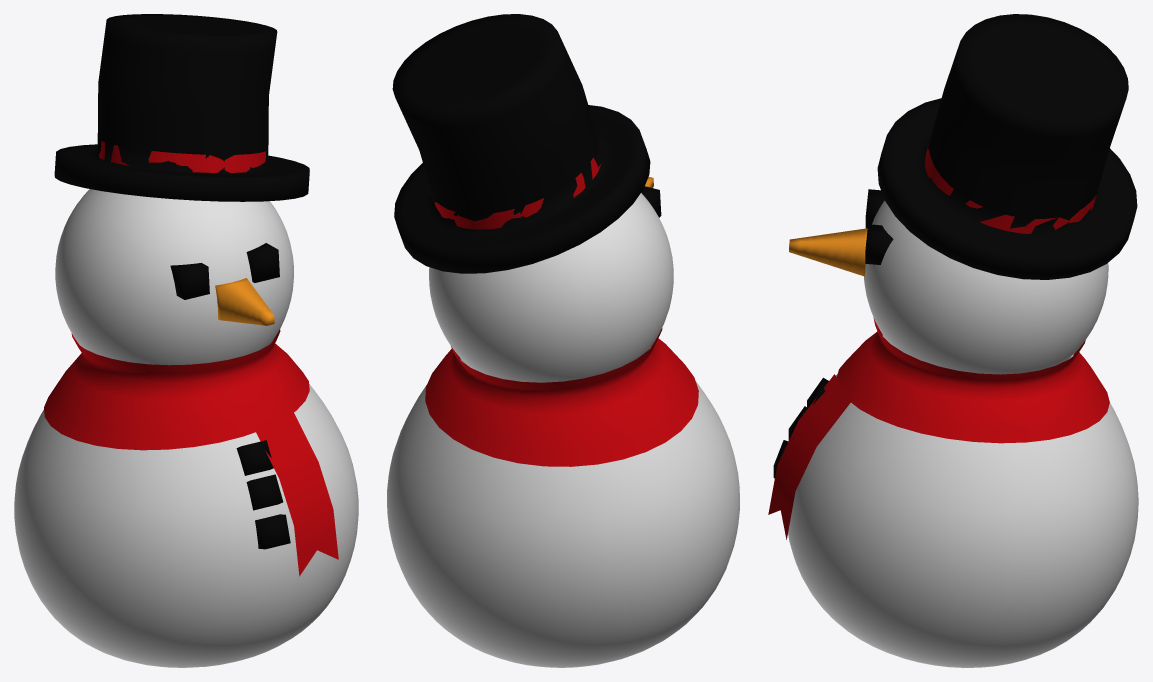
File: avatar.glb
3 renders of one model, left to right at view 1: azimuth 30°, elevation 25°; view 2: azimuth 150°, elevation 25°; view 3: azimuth 270°, elevation 25°, orthographic. The views are drawn at different scales.
Visible parts, largest first — view 1: Snowman 3d illustration, Circle.001, Cube.001, Circle, Plane, Cube.004, Cube.006, Circle.001_Piece, Cube.005, Cube.002; view 2: Snowman 3d illustration, Circle.001, Cube.001, Circle, Circle.001_Piece; view 3: Snowman 3d illustration, Circle.001, Cube.001, Circle, Plane, Cube.006, Circle.001_Piece, Cube.002, Cube.004.
Boxes of the visible parts, <box> form: Snowman 3d illustration: <box>14,384,358,667</box>; Circle.001: <box>54,14,309,201</box>; Cube.001: <box>55,189,293,365</box>; Circle: <box>44,329,309,450</box>; Plane: <box>253,409,338,576</box>; Cube.004: <box>236,440,290,549</box>; Cube.006: <box>215,278,274,325</box>; Circle.001_Piece: <box>99,141,266,172</box>; Cube.005: <box>170,263,209,299</box>; Cube.002: <box>246,243,279,282</box>; Snowman 3d illustration: <box>387,347,739,667</box>; Circle.001: <box>392,14,650,273</box>; Cube.001: <box>429,193,673,382</box>; Circle: <box>425,328,698,466</box>; Circle.001_Piece: <box>433,157,601,229</box>; Snowman 3d illustration: <box>788,335,1138,667</box>; Circle.001: <box>877,14,1137,279</box>; Cube.001: <box>864,200,1108,374</box>; Circle: <box>837,318,1109,443</box>; Plane: <box>768,374,852,539</box>; Cube.006: <box>789,228,867,276</box>; Circle.001_Piece: <box>925,141,1096,233</box>; Cube.002: <box>865,224,893,264</box>; Cube.004: <box>773,377,828,478</box>.
Size of the model in its own units: 1 by 1.94 by 1.05.
